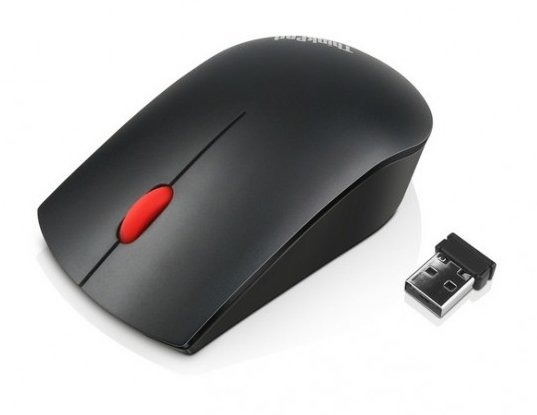mouse: (35, 35, 434, 359)
